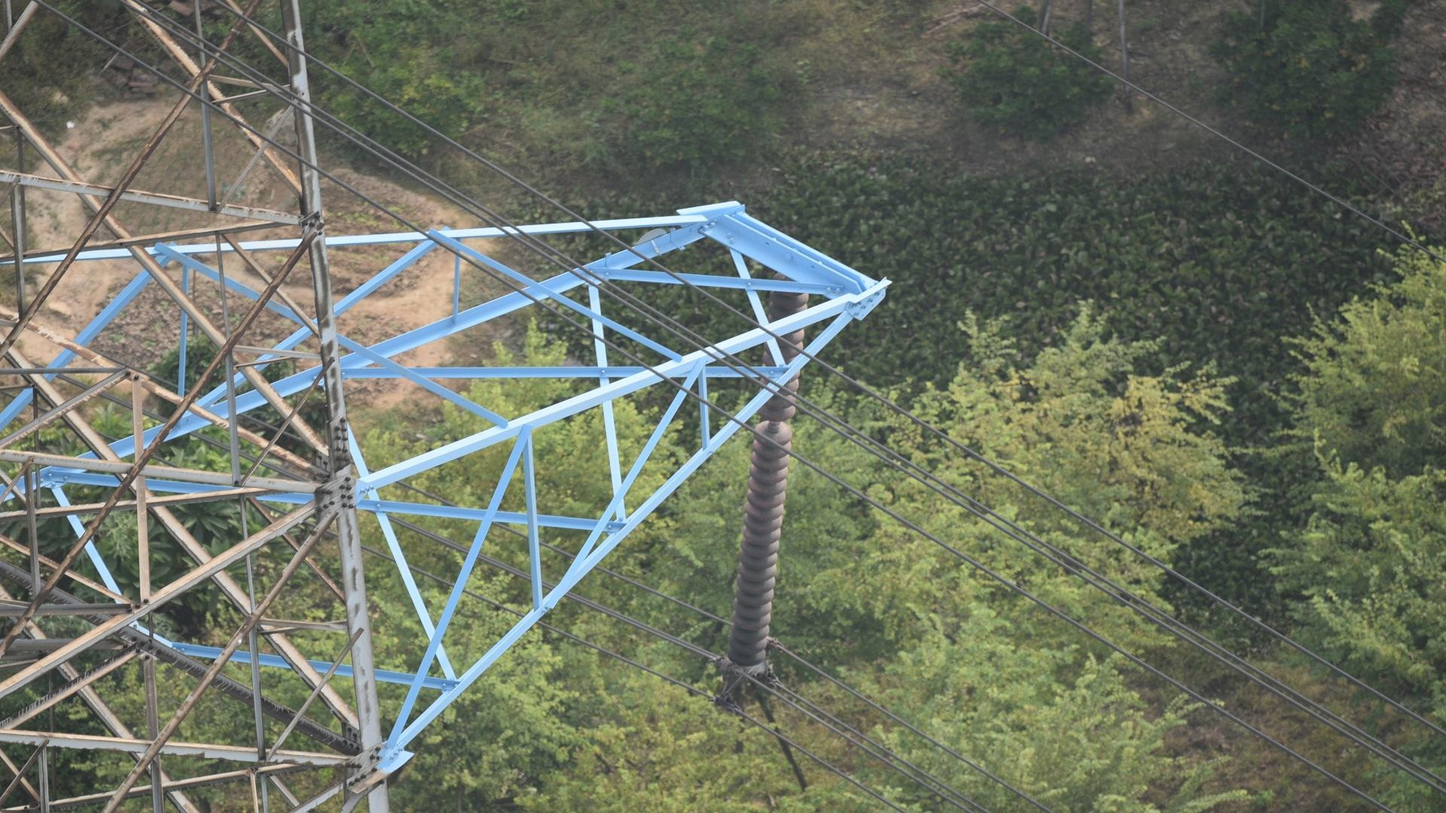insulator: (724, 419, 797, 669), (752, 273, 813, 423)
